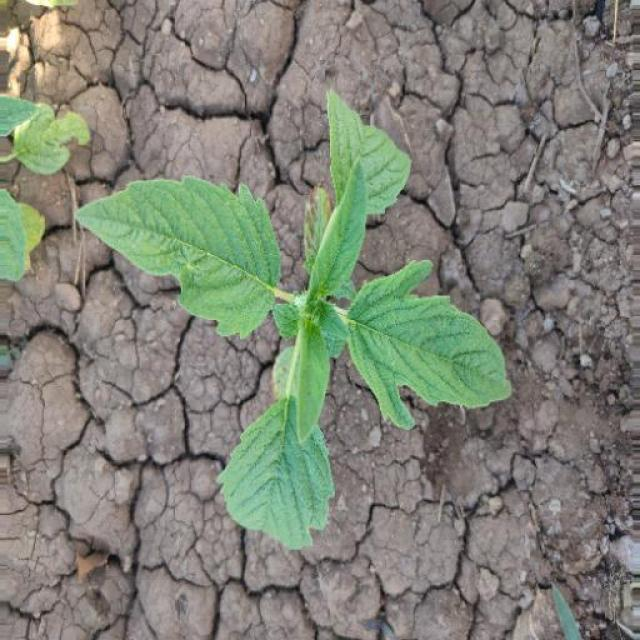crop: (64, 54, 541, 562)
